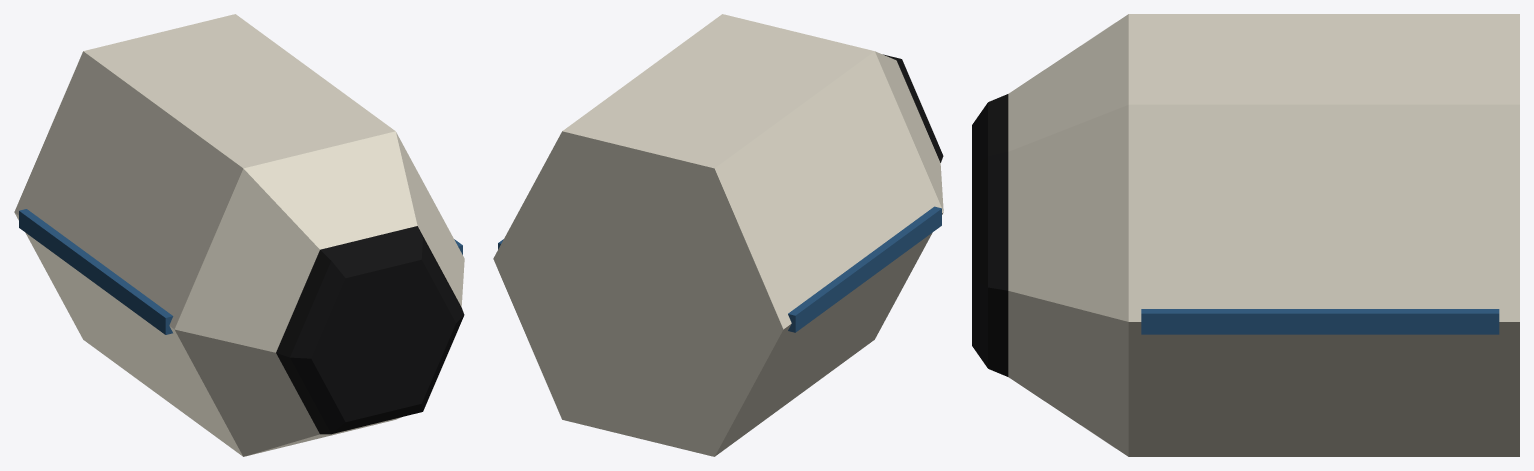
File: pod4_hull.obj
3 views of the same model, side by side, from view 1: azimuth 30°, elevation 25°; view 2: azimuth 150°, elevation 25°; view 3: azimuth 270°, elevation 25° (orthographic). The views are drawn at different scales.
Parts seen in each view (by area): view 1: pod4_hull; view 2: pod4_hull; view 3: pod4_hull.
Boxes of the visible parts, x1,y1,x2,y2 form: pod4_hull: (14, 14, 464, 456); pod4_hull: (493, 14, 943, 456); pod4_hull: (972, 14, 1519, 456).
Bounding box in the file's own units: 1.64 × 1.52 × 2.14.
